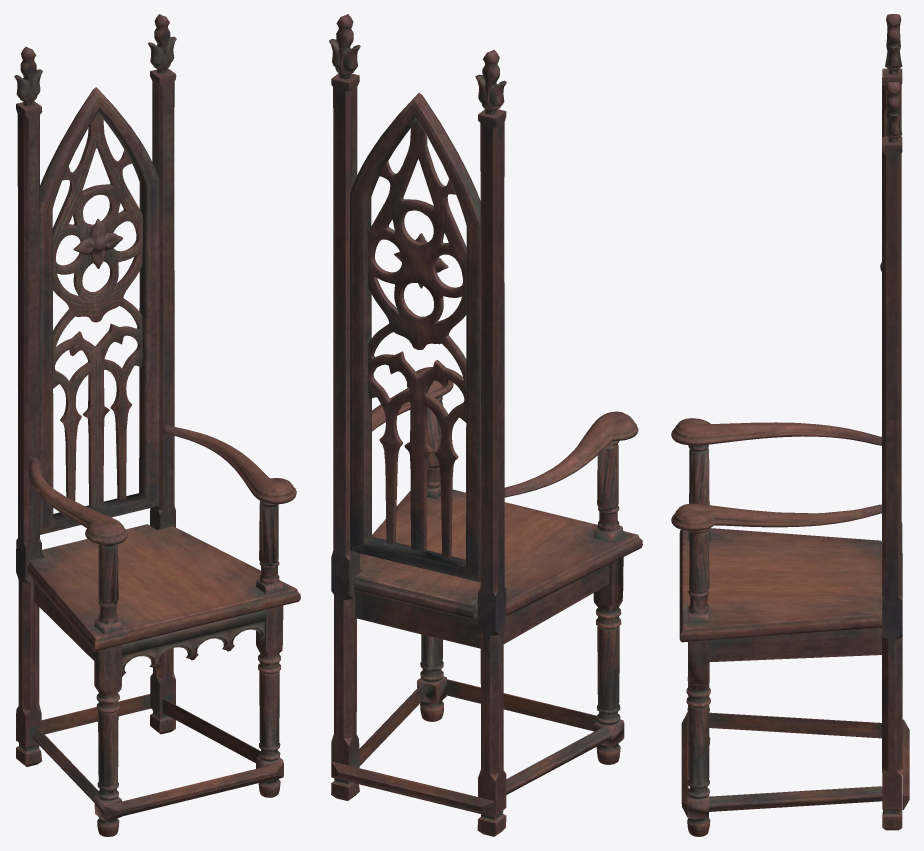
File: WoodenChair_01.glb
3 renders of one model, left to right at view 1: azimuth 30°, elevation 25°; view 2: azimuth 150°, elevation 25°; view 3: azimuth 270°, elevation 25°, orthographic. The views are drawn at different scales.
Parts seen in each view (by area): view 1: WoodenChair_01; view 2: WoodenChair_01; view 3: WoodenChair_01.
Boxes of the visible parts, box(x1,y1,x2,y2) form: WoodenChair_01: box(14, 14, 300, 836); WoodenChair_01: box(329, 14, 642, 836); WoodenChair_01: box(671, 14, 909, 836).
Bounding box in the file's own units: 0.6882 × 2.27 × 0.6585.
Materials: 1 (1 with a texture image).
